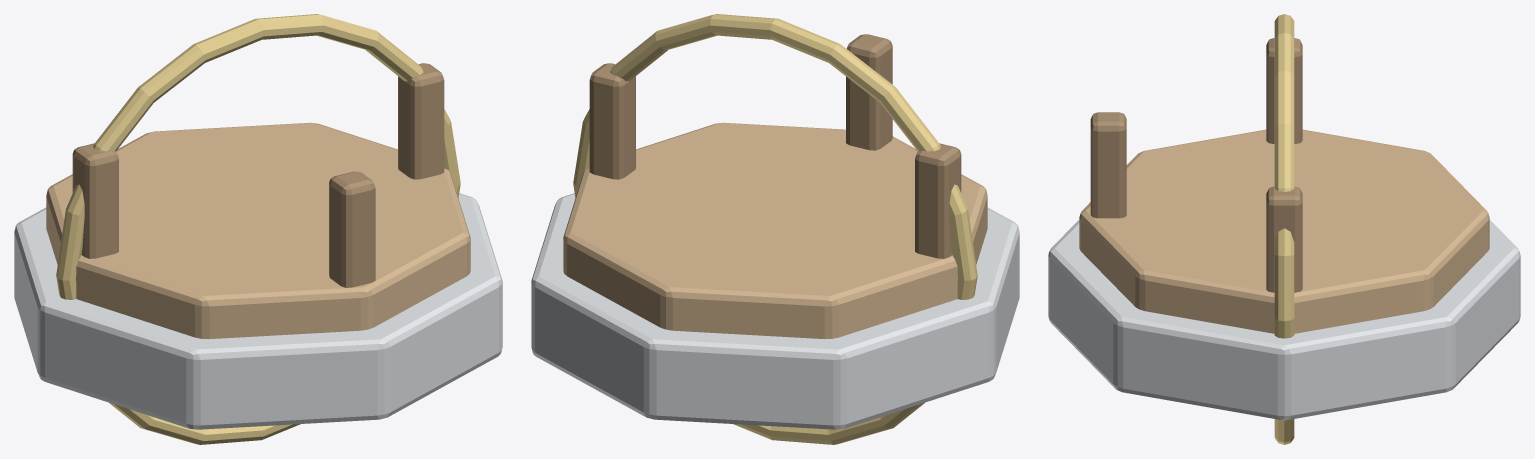
File: tower_base.glb
The picture shows the model from 3 angles, left to right: view 1: azimuth 30°, elevation 25°; view 2: azimuth 150°, elevation 25°; view 3: azimuth 270°, elevation 25°; orthographic projection. The views are drawn at different scales.
Parts seen in each view (by area): view 1: tower_base; view 2: tower_base; view 3: tower_base.
Part boxes in pixels (<box>): tower_base: <box>14,14,502,444</box>; tower_base: <box>531,14,1019,444</box>; tower_base: <box>1048,14,1520,444</box>.
Bounding box in the file's own units: 0.9135 × 0.84 × 0.9135.
